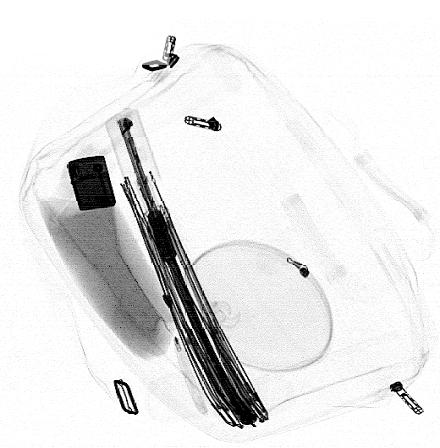Lighter: (67, 154, 117, 212)
